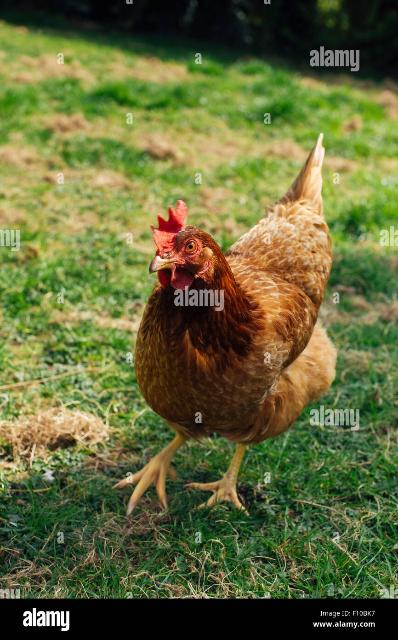Chicken: (109, 132, 341, 513)
